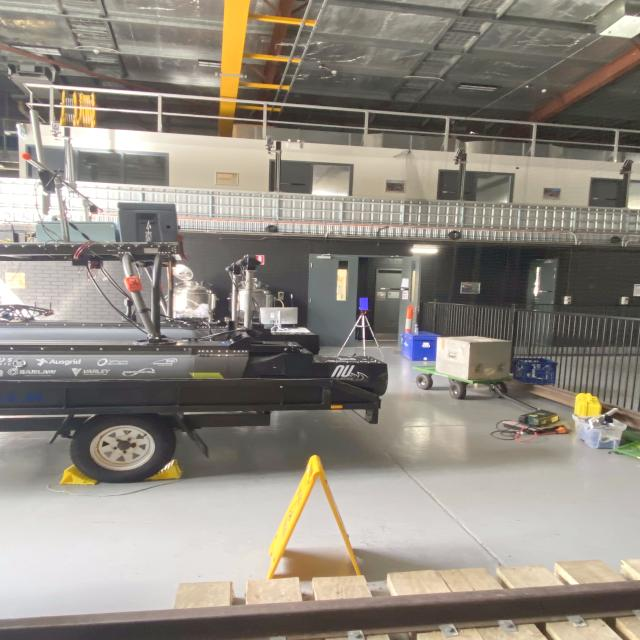matrix: (358, 297, 372, 310)
